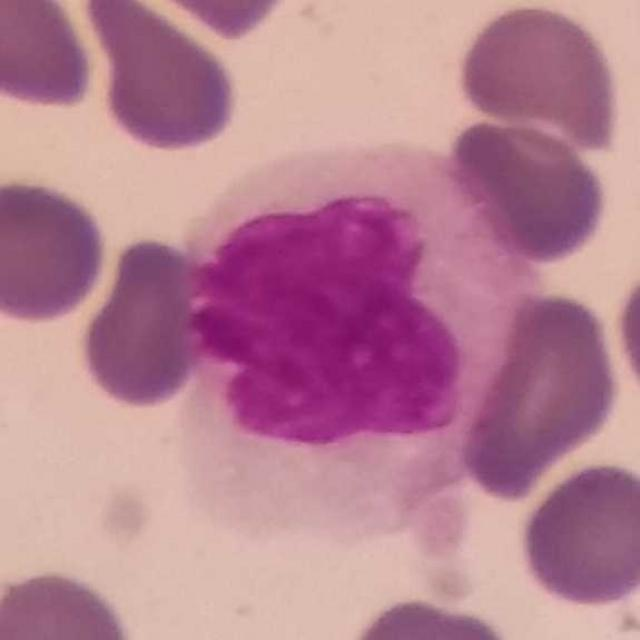Monocyte: (171, 125, 537, 550)
Platelets: (94, 489, 162, 552)
RBC: (455, 286, 626, 503), (450, 0, 629, 155), (435, 115, 613, 267), (80, 0, 245, 157), (75, 232, 209, 414), (513, 456, 640, 611), (0, 172, 111, 327), (0, 0, 99, 112), (0, 563, 140, 640), (337, 592, 528, 640), (116, 0, 300, 39), (610, 252, 640, 418)
